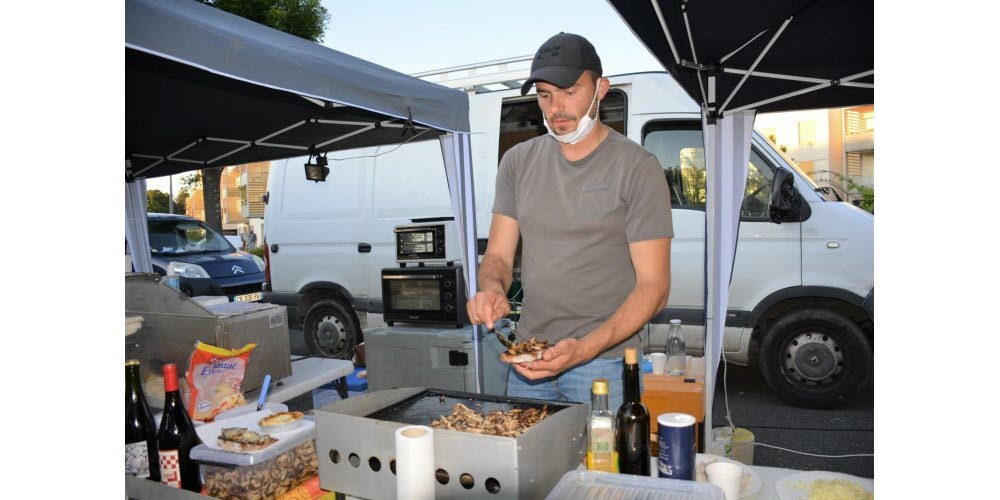with_incorrect_mask: (540, 73, 603, 154)
